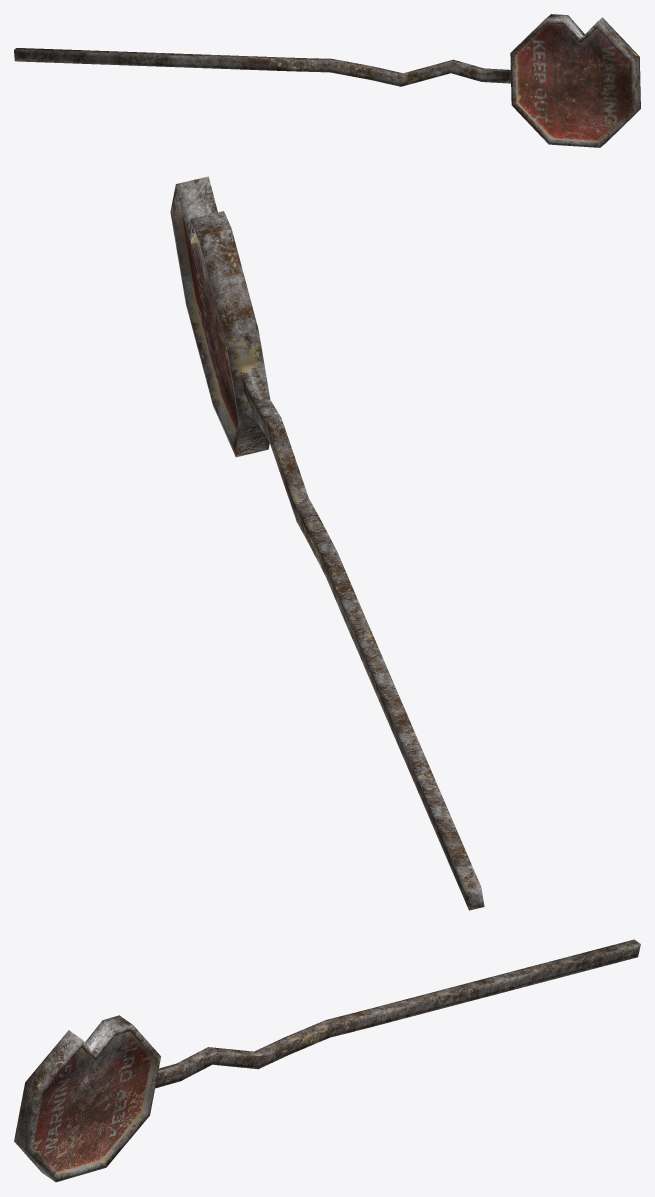
File: Anim_idle_senyal_objetos.0031.obj
The picture shows the model from 3 angles, top to bottom: view 1: azimuth 30°, elevation 25°; view 2: azimuth 150°, elevation 25°; view 3: azimuth 270°, elevation 25°; orthographic projection. The views are drawn at different scales.
Bounding box in the file's own units: 8.62 × 2.59 × 9.46.
